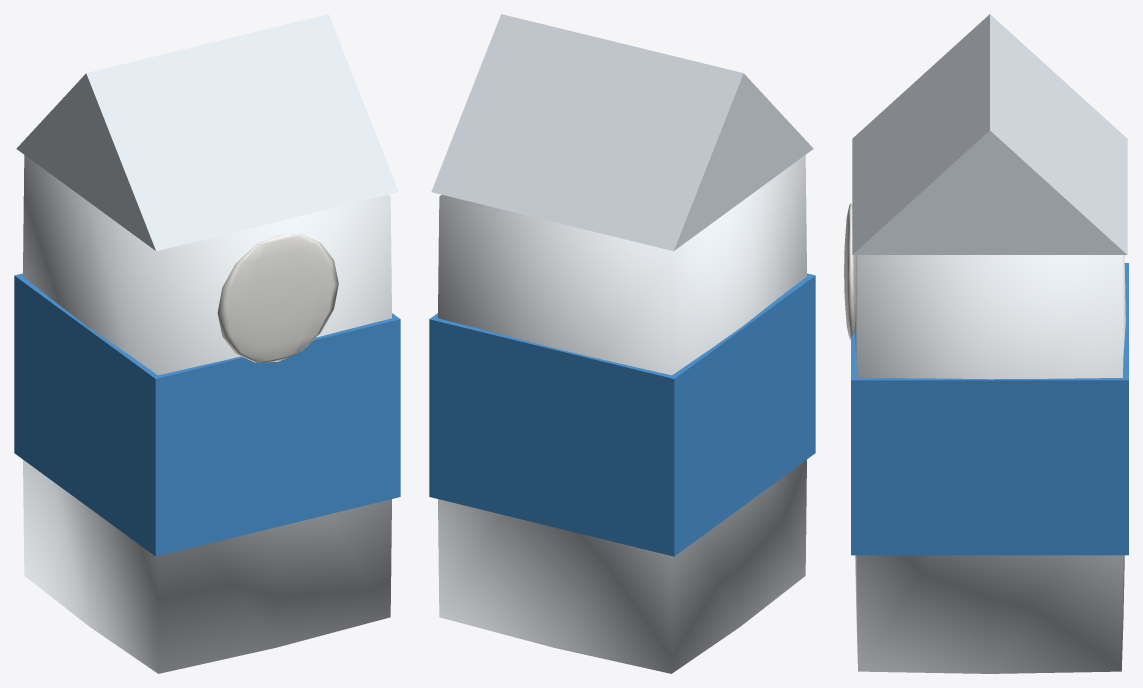
File: milk_carton.glb
3 views of the same model, side by side, from view 1: azimuth 30°, elevation 25°; view 2: azimuth 150°, elevation 25°; view 3: azimuth 270°, elevation 25° (orthographic).
Parts seen in each view (by area): view 1: root; view 2: root; view 3: root.
Boxes of the visible parts, <box> form: root: <box>14,14,400,673</box>; root: <box>429,14,815,673</box>; root: <box>844,14,1128,673</box>.
Size of the model in its own units: 0.202 by 0.44 by 0.207.
